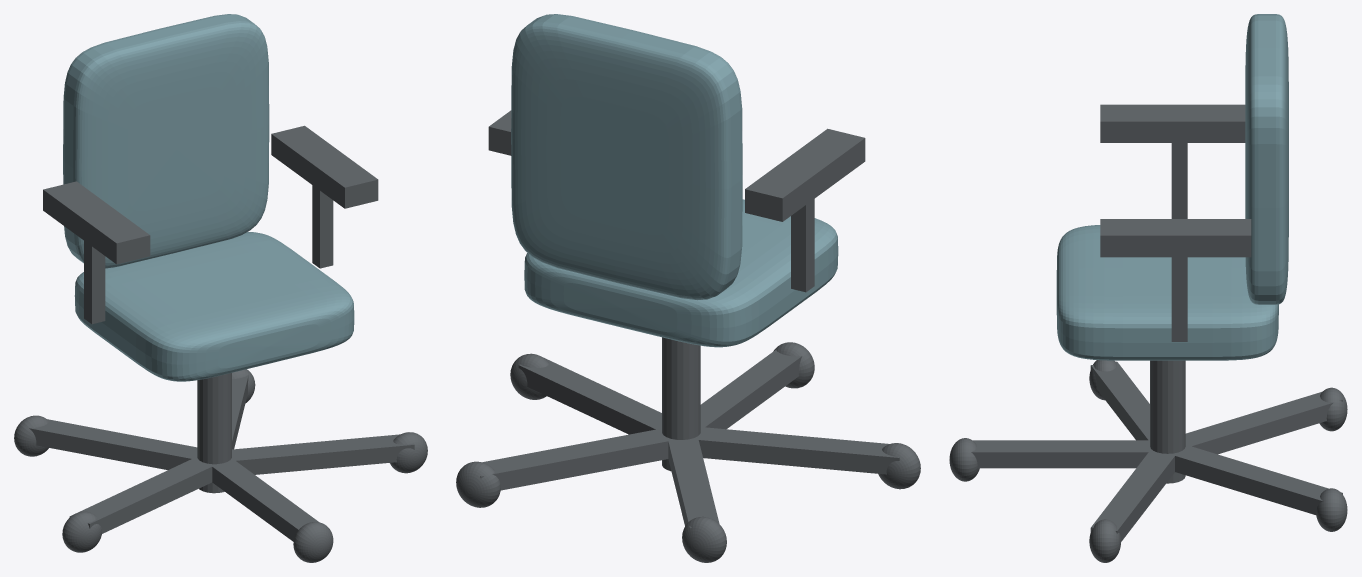
File: chair.glb
3 renders of one model, left to right at view 1: azimuth 30°, elevation 25°; view 2: azimuth 150°, elevation 25°; view 3: azimuth 270°, elevation 25°, orthographic. The views are drawn at different scales.
Visible parts, largest first — view 1: Back, Seat, Armrest_-1, Armrest_1, Base_Arm_1, Base_Arm_3, Base_Arm_4, Base_Arm_0, Column, Arm_Support_1, Arm_Support_-1, Wheel_0 (+4 smaller); view 2: Back, Seat, Armrest_-1, Base_Arm_4, Base_Arm_2, Base_Arm_1, Column, Base_Arm_0, Base_Arm_3, Arm_Support_-1, Wheel_3, Wheel_2 (+4 smaller); view 3: Seat, Back, Armrest_1, Armrest_-1, Base_Arm_0, Base_Arm_2, Base_Arm_3, Column, Base_Arm_1, Base_Arm_4, Arm_Support_1, Arm_Support_-1 (+4 smaller).
Part boxes in pixels (left/top/right/bottom): Back: left=63, top=14, right=269, bottom=268; Seat: left=74, top=232, right=354, bottom=381; Armrest_-1: left=43, top=181, right=150, bottom=264; Armrest_1: left=271, top=125, right=378, bottom=208; Base_Arm_1: left=232, top=434, right=414, bottom=474; Base_Arm_3: left=29, top=419, right=198, bottom=469; Base_Arm_4: left=69, top=459, right=216, bottom=533; Base_Arm_0: left=212, top=458, right=318, bottom=541; Column: left=197, top=373, right=231, bottom=493; Arm_Support_1: left=312, top=185, right=333, bottom=268; Arm_Support_-1: left=84, top=241, right=105, bottom=324; Wheel_0: left=293, top=522, right=333, bottom=562; Back: left=511, top=14, right=742, bottom=300; Seat: left=524, top=199, right=838, bottom=347; Armrest_-1: left=745, top=128, right=865, bottom=221; Base_Arm_4: left=698, top=427, right=899, bottom=474; Base_Arm_2: left=480, top=428, right=675, bottom=490; Base_Arm_1: left=518, top=357, right=661, bottom=434; Column: left=662, top=337, right=700, bottom=471; Base_Arm_0: left=700, top=350, right=802, bottom=429; Base_Arm_3: left=668, top=436, right=719, bottom=529; Arm_Support_-1: left=791, top=199, right=814, bottom=292; Wheel_3: left=682, top=516, right=726, bottom=562; Wheel_2: left=456, top=461, right=500, bottom=507; Seat: left=1056, top=225, right=1278, bottom=360; Back: left=1245, top=14, right=1288, bottom=304; Armrest_1: left=1100, top=219, right=1251, bottom=257; Armrest_-1: left=1100, top=104, right=1245, bottom=142; Base_Arm_0: left=971, top=440, right=1151, bottom=468; Base_Arm_2: left=1169, top=445, right=1342, bottom=515; Base_Arm_3: left=1185, top=392, right=1342, bottom=454; Column: left=1150, top=360, right=1185, bottom=483; Base_Arm_1: left=1090, top=449, right=1174, bottom=541; Base_Arm_4: left=1090, top=361, right=1149, bottom=440; Arm_Support_1: left=1171, top=257, right=1187, bottom=341; Arm_Support_-1: left=1171, top=143, right=1187, bottom=218.
Bounding box in the file's own units: 1.08 × 1.2 × 1.
